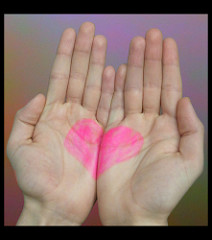palm: (111, 122, 189, 215), (36, 107, 90, 208)
